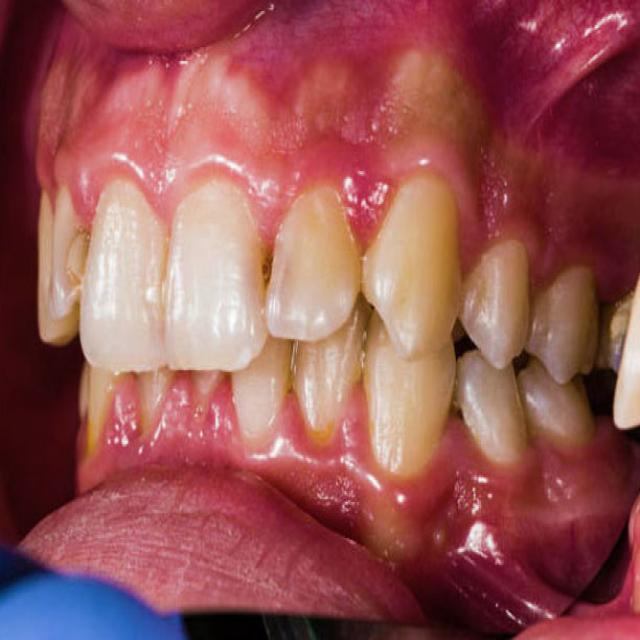caries: (56, 227, 103, 304), (243, 236, 291, 308)
